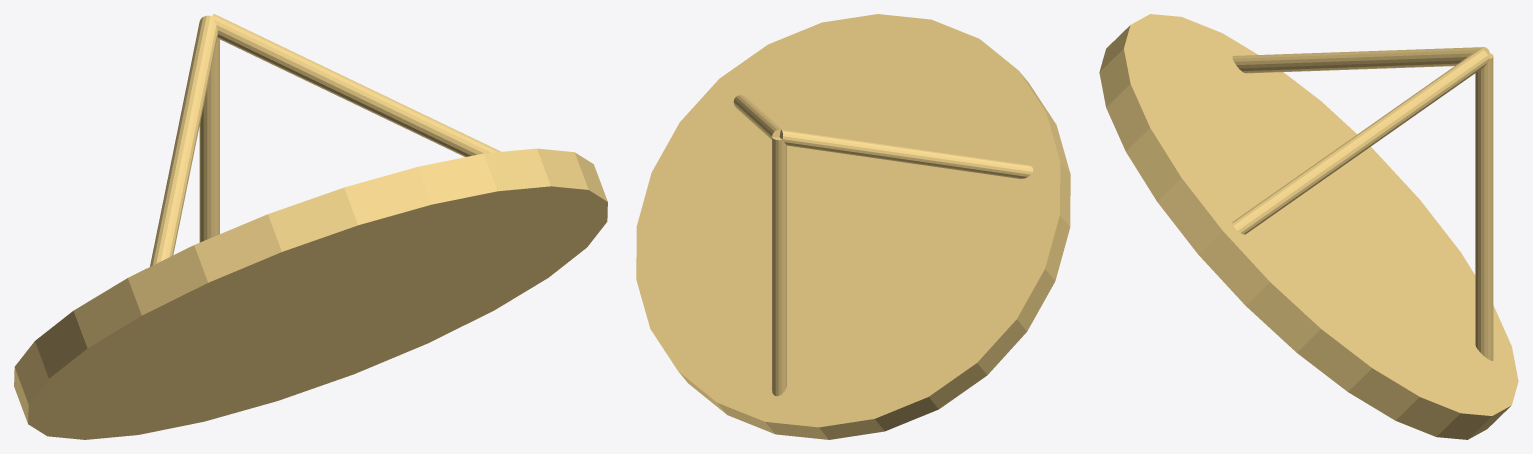
The model's file is SM_Keeper_Ammit_Pan1.fbx.
The picture shows the model from 3 angles, left to right: view 1: azimuth 30°, elevation 25°; view 2: azimuth 150°, elevation 25°; view 3: azimuth 270°, elevation 25°; orthographic projection. The views are drawn at different scales.
Visible parts, largest first — view 1: SM_Keeper_Ammit_Pan1; view 2: SM_Keeper_Ammit_Pan1; view 3: SM_Keeper_Ammit_Pan1.
Part boxes in pixels (x1,y1,x2,y2): SM_Keeper_Ammit_Pan1: (14, 14, 607, 439); SM_Keeper_Ammit_Pan1: (636, 14, 1070, 439); SM_Keeper_Ammit_Pan1: (1099, 14, 1518, 439).
Size of the model in its own units: 0.9 by 0.6575 by 0.6998.
